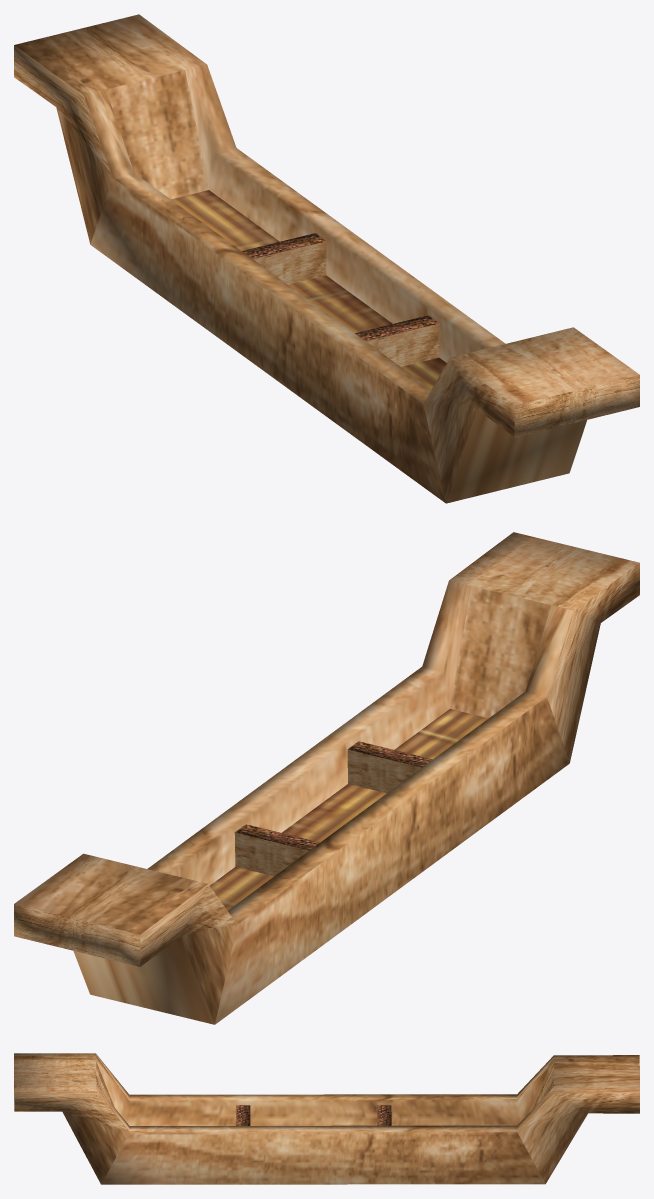
The model's file is canoe_war.dae.
3 renders of one model, top to bottom at view 1: azimuth 30°, elevation 25°; view 2: azimuth 150°, elevation 25°; view 3: azimuth 270°, elevation 25°, orthographic. The views are drawn at different scales.
Visible parts, largest first — view 1: canoe_war; view 2: canoe_war; view 3: canoe_war.
Boxes of the visible parts, <box> form: canoe_war: <box>14,14,639,503</box>; canoe_war: <box>14,532,639,1024</box>; canoe_war: <box>14,1053,639,1184</box>.
Bounding box in the file's own units: 1.98 × 13.43 × 2.21.
